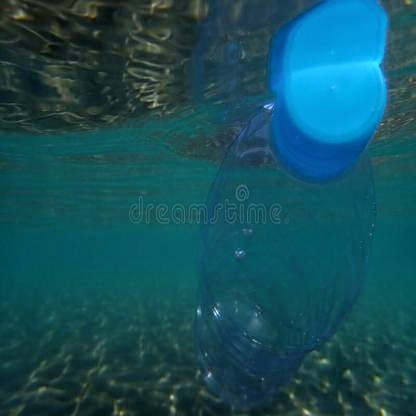pbottle: (184, 52, 390, 410)
